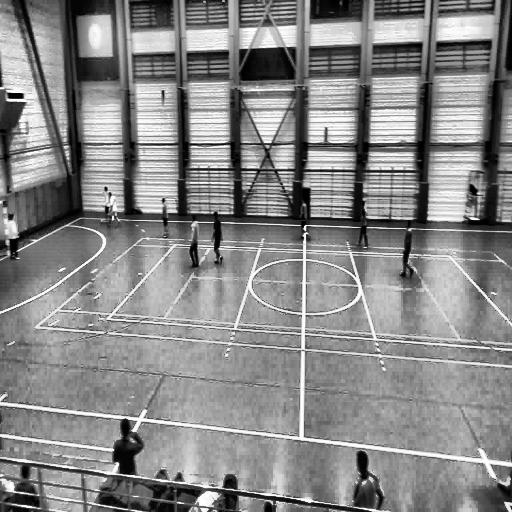ball: (100, 216, 105, 226)
player: (113, 419, 144, 503), (350, 450, 382, 510), (396, 215, 416, 278), (7, 214, 21, 260), (212, 211, 223, 264), (189, 214, 199, 269), (357, 201, 368, 248), (110, 190, 123, 227), (300, 196, 310, 240), (162, 198, 169, 237), (104, 186, 111, 225)
